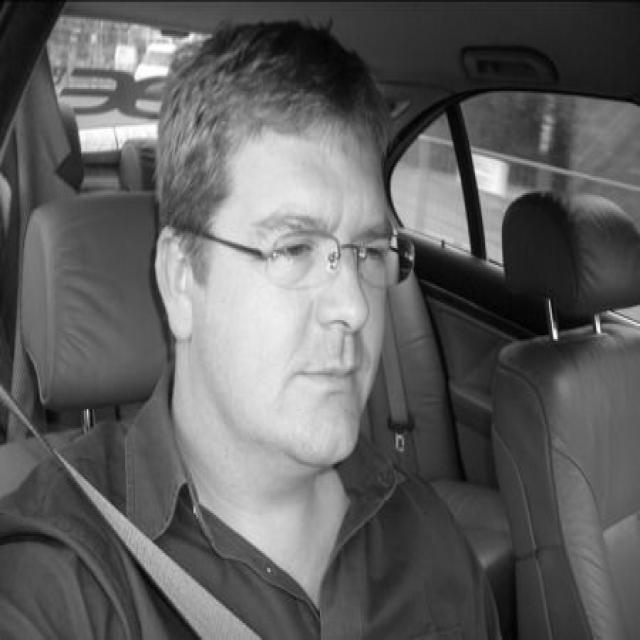person: (1, 20, 503, 639)
